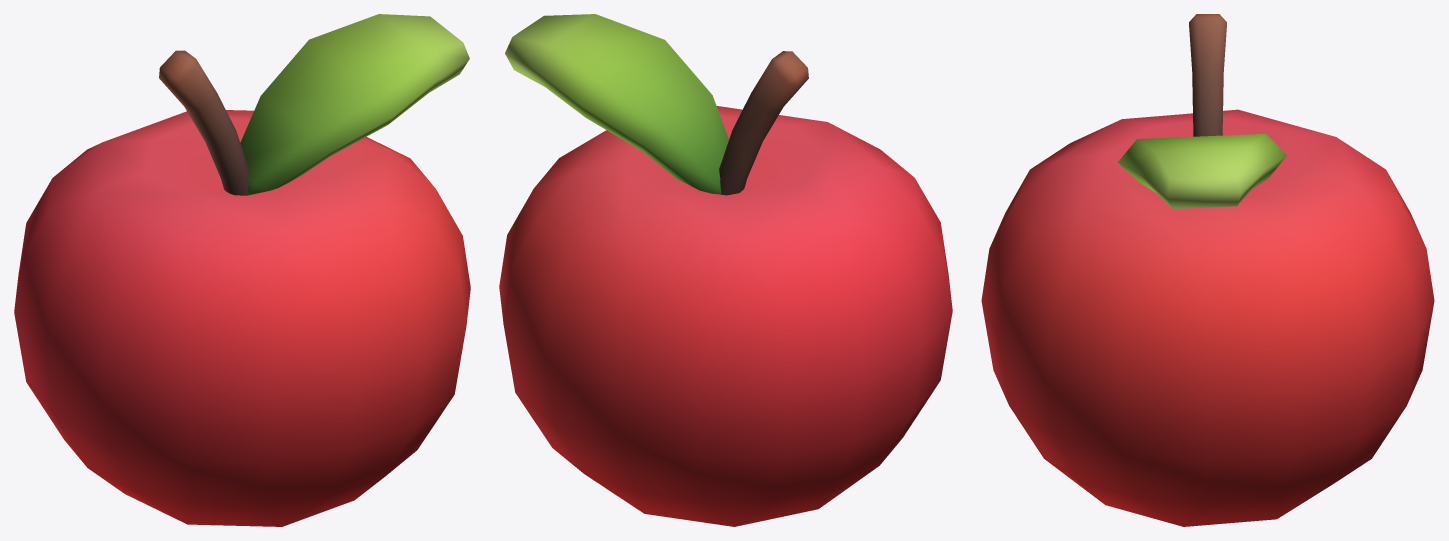
The model's file is apple_001.fbx.
The picture shows the model from 3 angles, left to right: view 1: azimuth 30°, elevation 25°; view 2: azimuth 150°, elevation 25°; view 3: azimuth 270°, elevation 25°; orthographic projection.
Visible parts, largest first — view 1: apple_001; view 2: apple_001; view 3: apple_001.
Part boxes in pixels (left/top/right/bottom): apple_001: left=14, top=14, right=470, bottom=526; apple_001: left=499, top=14, right=952, bottom=526; apple_001: left=981, top=14, right=1434, bottom=526.
Size of the model in its own units: 78.26 by 76.64 by 84.15.
